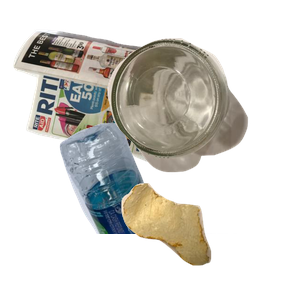glass: (105, 36, 300, 201)
paper: (11, 27, 213, 185)
plastic: (57, 120, 284, 300)
trash: (119, 181, 300, 300)
